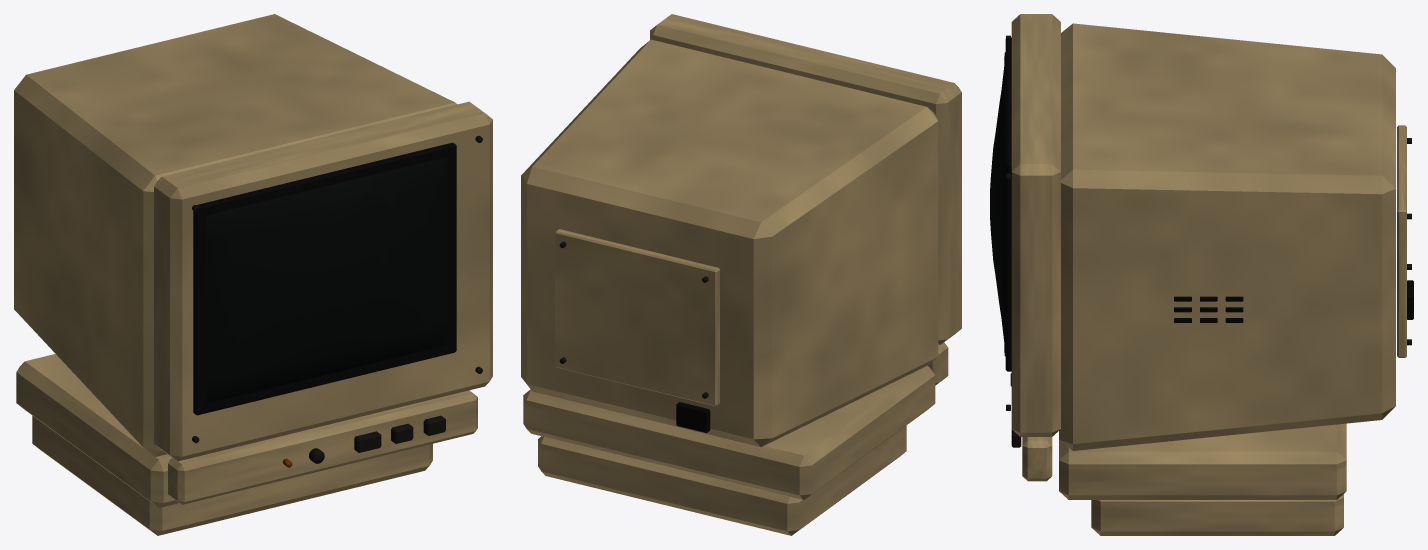
The model's file is retro_crt_monitor_LOD1.glb.
3 views of the same model, side by side, from view 1: azimuth 30°, elevation 25°; view 2: azimuth 150°, elevation 25°; view 3: azimuth 270°, elevation 25° (orthographic). The views are drawn at different scales.
Visible parts, largest first — view 1: Deep tapered CRT housing, Convex thick CRT glass, Thick rounded front bezel, Front control strip, Lower stepped base, Dark recessed screen surround, Upper control plinth; view 2: Deep tapered CRT housing, Inferred rear service panel, Upper control plinth, Thick rounded front bezel, Lower stepped base, Inferred rear power inlet, Front control strip; view 3: Deep tapered CRT housing, Thick rounded front bezel, Upper control plinth, Lower stepped base, Convex thick CRT glass, Inferred rear service panel, Dark recessed screen surround, Front control strip.
Boxes of the visible parts, left/top/right/bottom form: Deep tapered CRT housing: left=14, top=14, right=457, bottom=456; Convex thick CRT glass: left=206, top=157, right=447, bottom=403; Thick rounded front bezel: left=154, top=101, right=492, bottom=461; Front control strip: left=168, top=390, right=477, bottom=504; Lower stepped base: left=32, top=415, right=432, bottom=535; Dark recessed screen surround: left=193, top=142, right=456, bottom=415; Upper control plinth: left=16, top=354, right=178, bottom=507; Deep tapered CRT housing: left=521, top=39, right=938, bottom=446; Inferred rear service panel: left=555, top=229, right=719, bottom=406; Upper control plinth: left=523, top=365, right=935, bottom=499; Thick rounded front bezel: left=650, top=14, right=961, bottom=344; Lower stepped base: left=538, top=425, right=906, bottom=535; Inferred rear power inlet: left=676, top=402, right=710, bottom=432; Front control strip: left=928, top=342, right=948, bottom=385; Deep tapered CRT housing: left=1059, top=23, right=1395, bottom=450; Thick rounded front bezel: left=1011, top=14, right=1060, bottom=436; Upper control plinth: left=1059, top=423, right=1346, bottom=499; Lower stepped base: left=1091, top=494, right=1343, bottom=535; Convex thick CRT glass: left=990, top=52, right=1005, bottom=356; Inferred rear service panel: left=1397, top=125, right=1406, bottom=357; Dark recessed screen surround: left=1005, top=37, right=1011, bottom=371; Front control strip: left=1022, top=437, right=1052, bottom=481.
Size of the model in its own units: 0.3773 by 0.425 by 0.4277.
5 materials, 5 textured.
